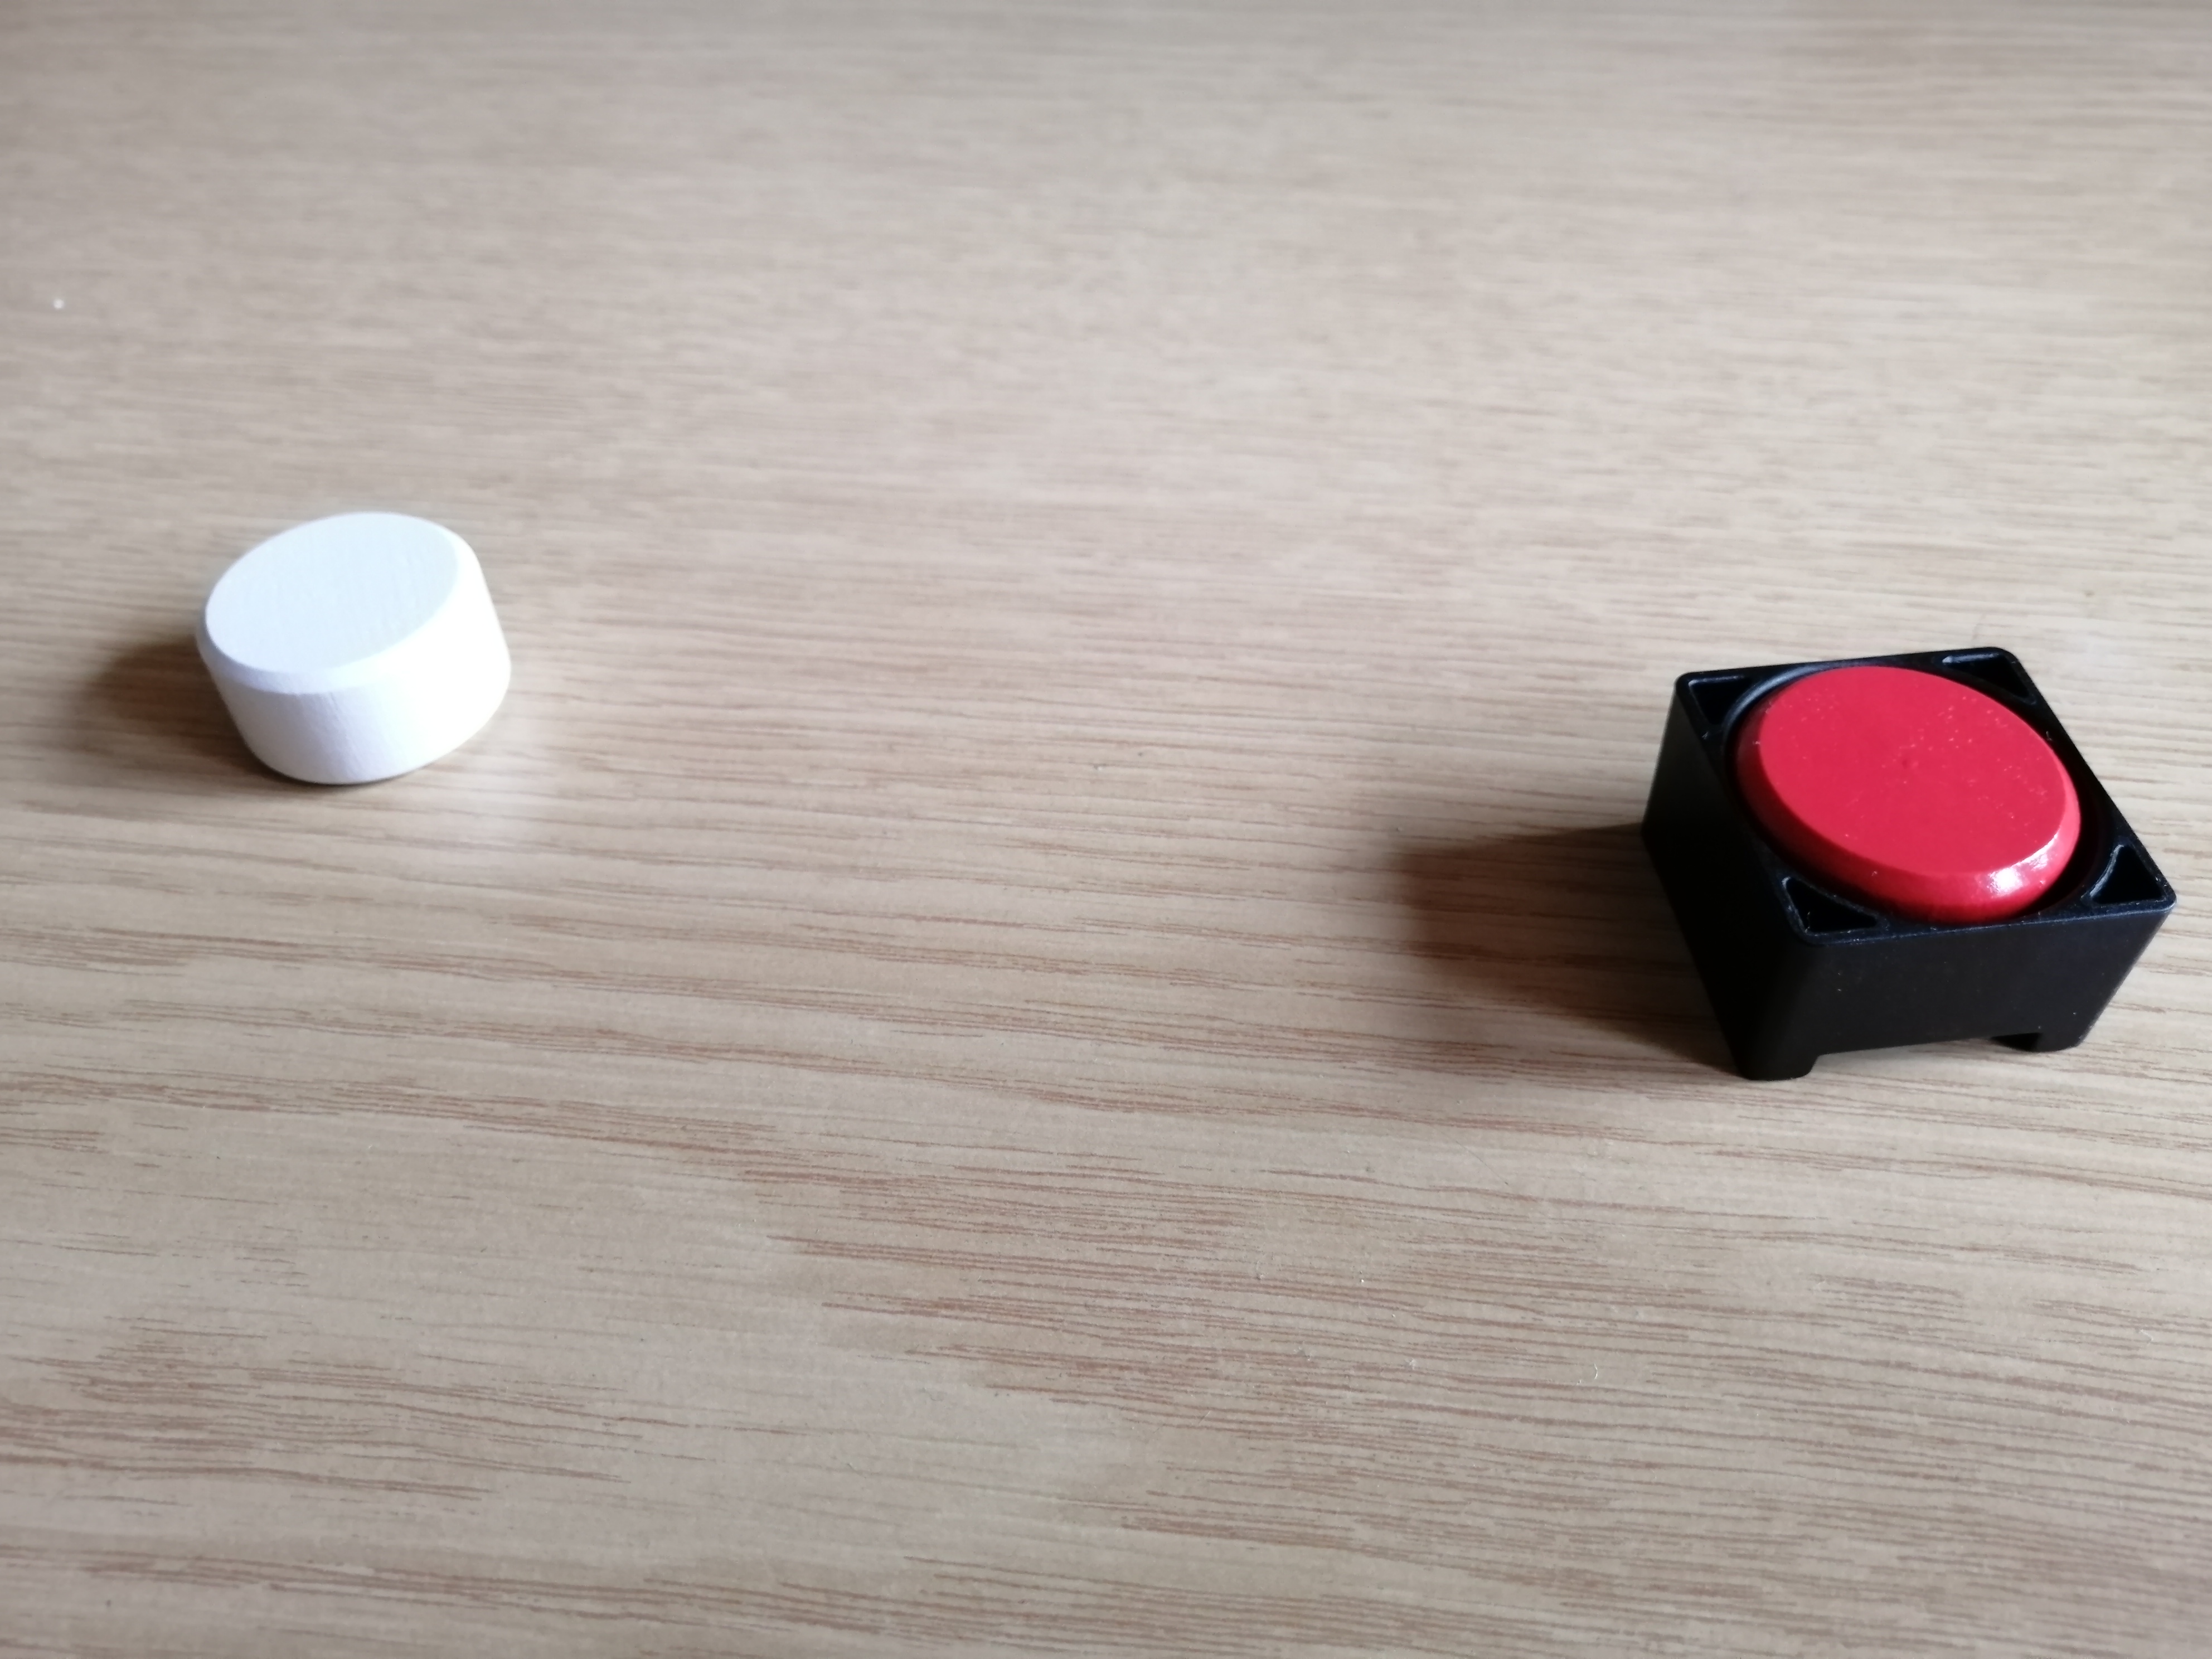Behaelter: (1641, 643, 2172, 1091)
WerkStueck: (1730, 666, 2083, 920), (202, 512, 510, 788)
